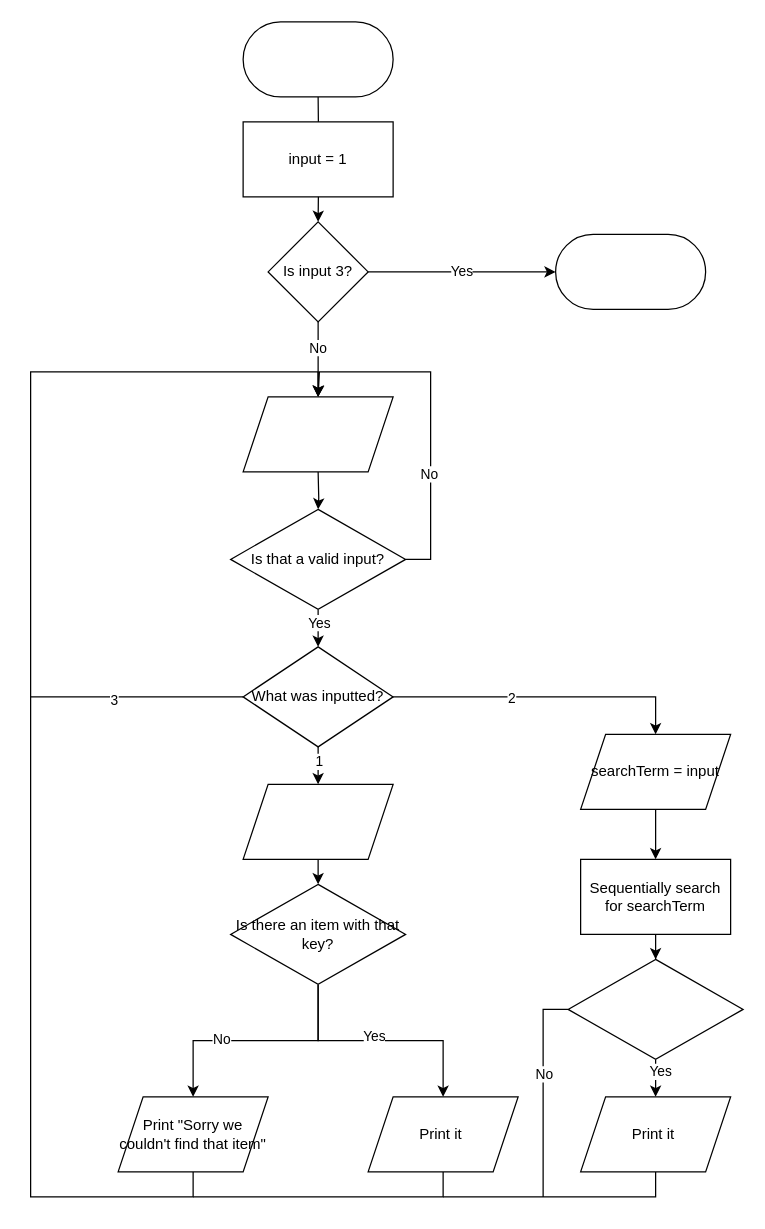
This 765x1229 diagram has some shape labels left out. Each missing label, with the centre of its shape:
Does current item match searchterm: point 655,1008
End: point 630,271
input = userInput: point 317,434
name = input: point 317,821
Start: point 317,59
